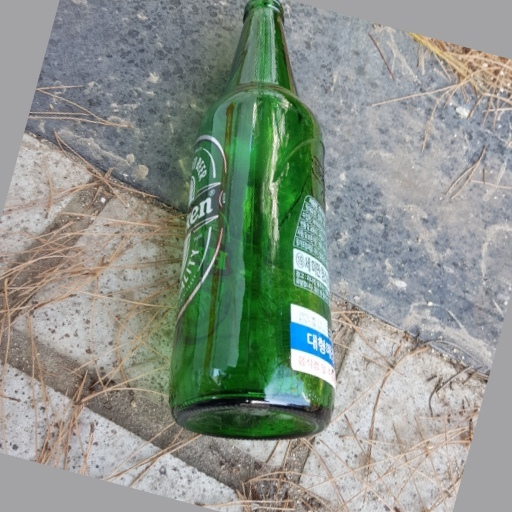Glass_1: (170, 1, 338, 441)
